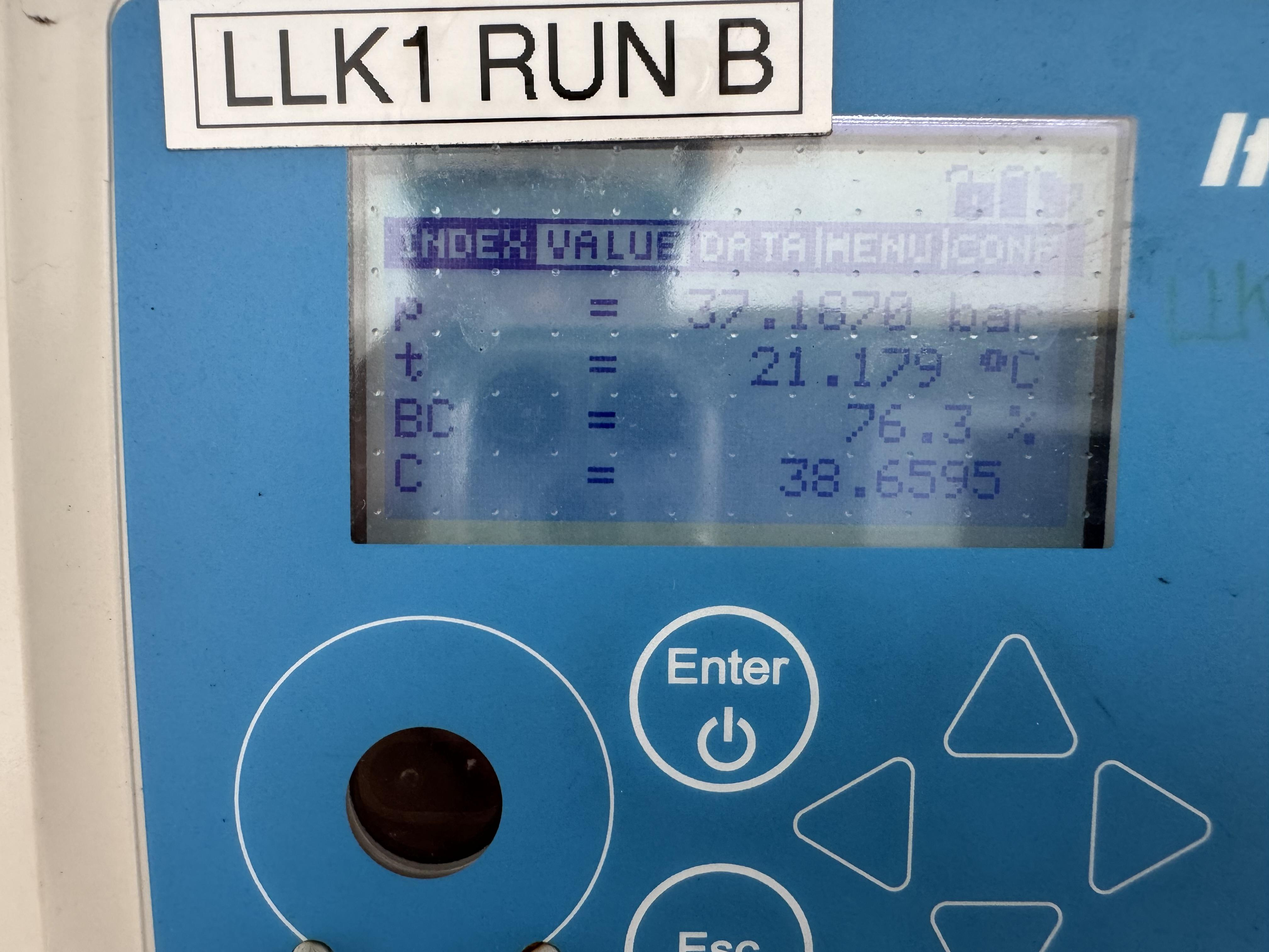digital_screen: (347, 117, 1138, 549)
